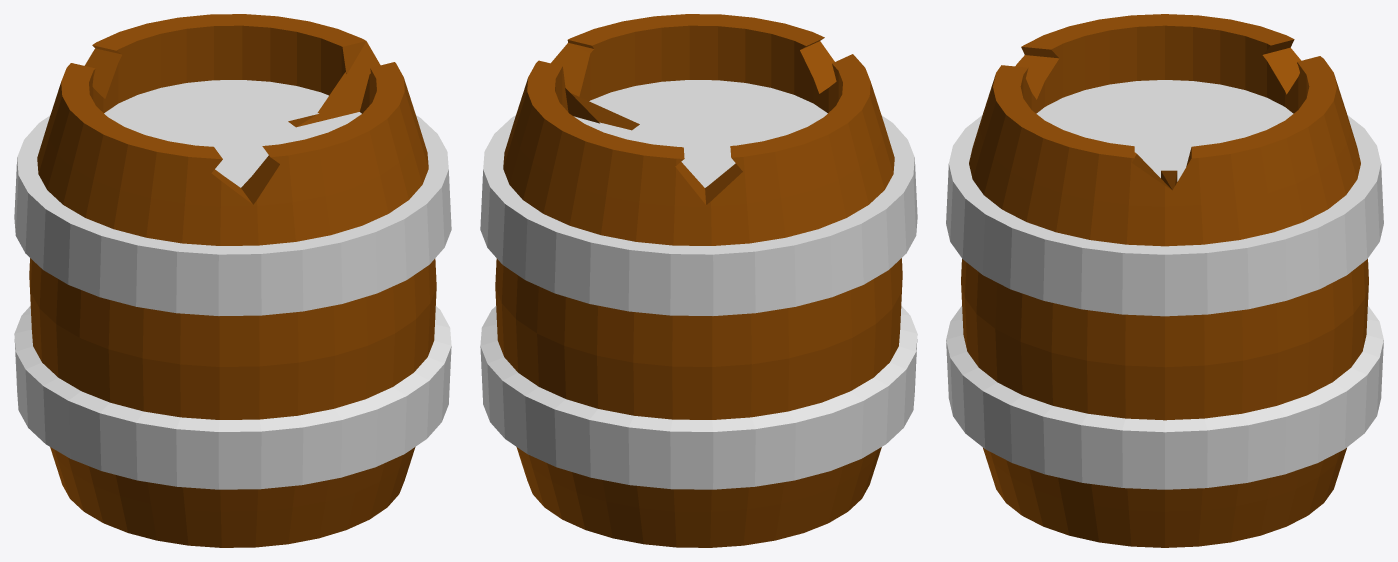
The model's file is Barril3D.fbx.
The picture shows the model from 3 angles, left to right: view 1: azimuth 30°, elevation 25°; view 2: azimuth 150°, elevation 25°; view 3: azimuth 270°, elevation 25°; orthographic projection.
Parts seen in each view (by area): view 1: Circle; view 2: Circle; view 3: Circle.
Boxes of the visible parts, left/top/right/bottom form: Circle: left=14, top=14, right=451, bottom=547; Circle: left=480, top=14, right=917, bottom=547; Circle: left=946, top=14, right=1383, bottom=547.
Bounding box in the file's own units: 240 × 235 × 240.
